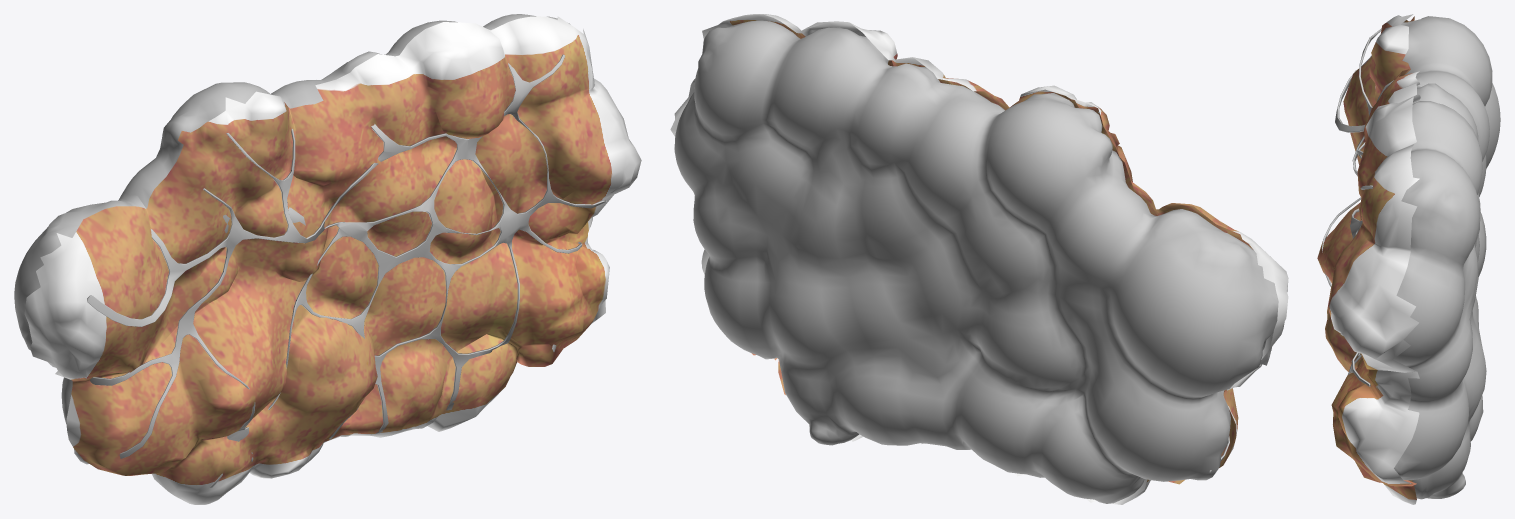
The model's file is FBX_TejidoAdiposo.fbx.
3 views of the same model, side by side, from view 1: azimuth 30°, elevation 25°; view 2: azimuth 150°, elevation 25°; view 3: azimuth 270°, elevation 25° (orthographic). The views are drawn at different scales.
Visible parts, largest first — view 1: S_LowVeins, LowCutVeins, LowFat; view 2: LowFat, S_LowVeins; view 3: LowFat, S_LowVeins, LowCutVeins.
Part boxes in pixels (bbox=[...]): S_LowVeins: bbox=[24, 16, 641, 504]; LowCutVeins: bbox=[87, 54, 606, 487]; LowFat: bbox=[14, 14, 617, 464]; LowFat: bbox=[674, 20, 1278, 503]; S_LowVeins: bbox=[670, 14, 1288, 504]; LowFat: bbox=[1340, 16, 1500, 499]; S_LowVeins: bbox=[1317, 14, 1420, 504]; LowCutVeins: bbox=[1322, 28, 1393, 386].
Bounding box in the file's own units: 23.26 × 15.48 × 6.26.
